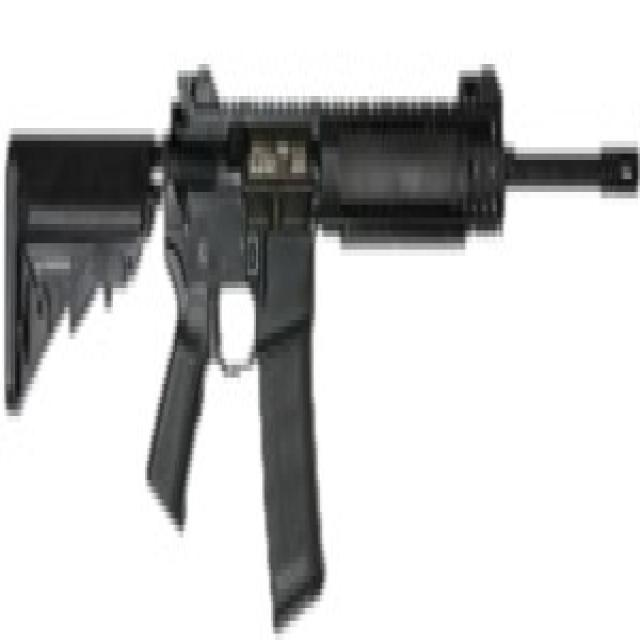rifle: (1, 44, 640, 640)
